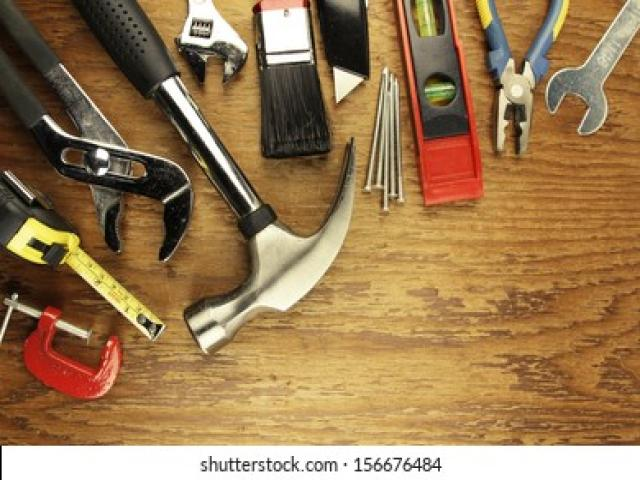Adjustable spanner: (175, 0, 248, 83)
Gas wrench: (0, 1, 194, 259)
Hammer: (78, 0, 354, 352)
Pliers: (477, 0, 569, 153)
Tape measure: (0, 172, 165, 339)
Wrench: (548, 0, 640, 134)
